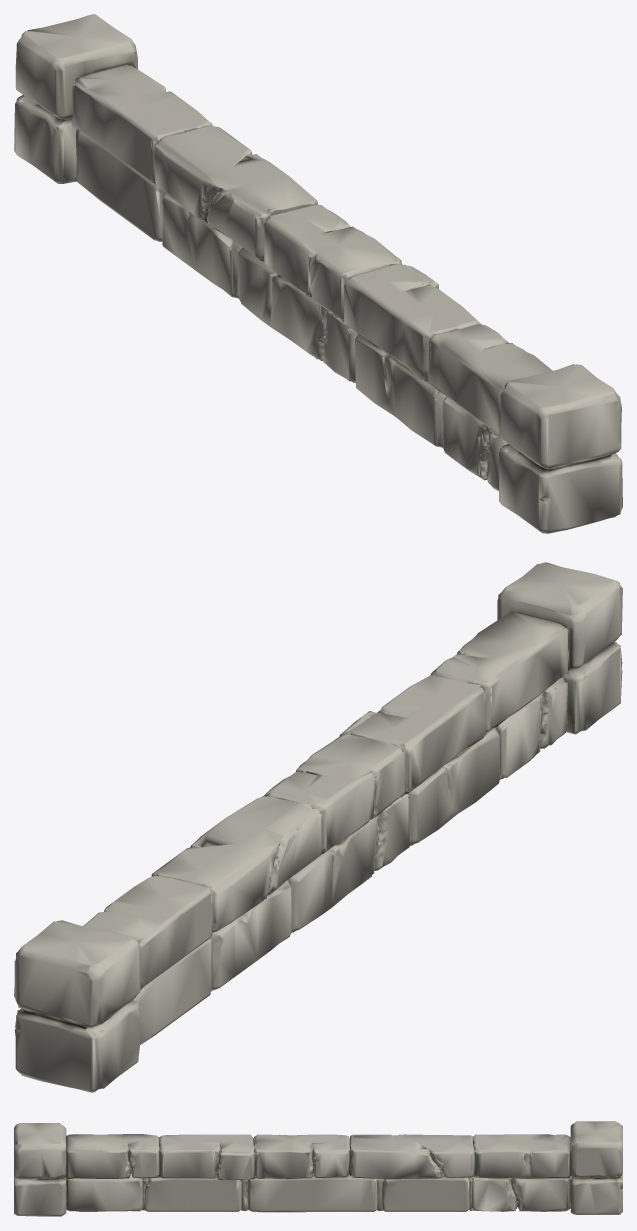
3 views of the same model, one above another, from view 1: azimuth 30°, elevation 25°; view 2: azimuth 150°, elevation 25°; view 3: azimuth 270°, elevation 25° (orthographic). The views are drawn at different scales.
Visible parts, largest first — view 1: tripo_node_15ec6959-2054-4285-9dd7-c76de85c45c9; view 2: tripo_node_15ec6959-2054-4285-9dd7-c76de85c45c9; view 3: tripo_node_15ec6959-2054-4285-9dd7-c76de85c45c9.
Part boxes in pixels (x1=…): tripo_node_15ec6959-2054-4285-9dd7-c76de85c45c9: x1=14, y1=14, x2=622, y2=533; tripo_node_15ec6959-2054-4285-9dd7-c76de85c45c9: x1=14, y1=562, x2=622, y2=1092; tripo_node_15ec6959-2054-4285-9dd7-c76de85c45c9: x1=14, y1=1121, x2=622, y2=1216.
Size of the model in its own units: 0.3806 by 0.5 by 3.81.
1 material, 1 textured.
